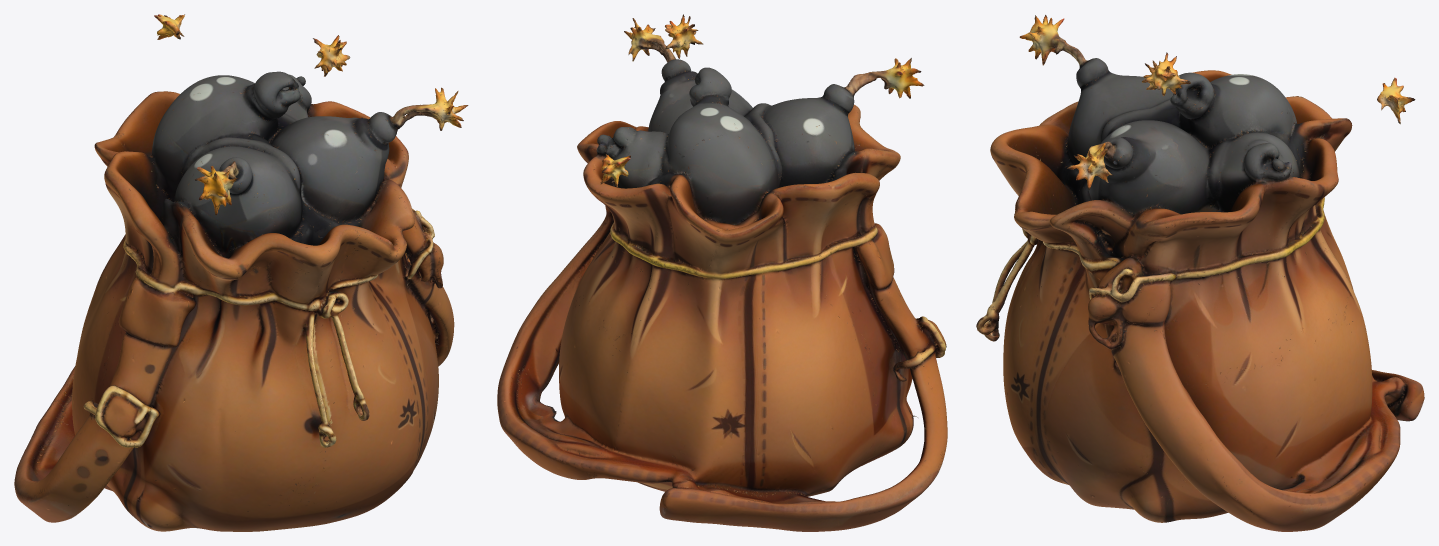
Rendered from Asset_sac.fbx.
3 views of the same model, side by side, from view 1: azimuth 30°, elevation 25°; view 2: azimuth 150°, elevation 25°; view 3: azimuth 270°, elevation 25° (orthographic). The views are drawn at different scales.
Parts seen in each view (by area): view 1: Mesh_0; view 2: Mesh_0; view 3: Mesh_0.
Part boxes in pixels (x1,y1,x2,y2): Mesh_0: (14,14,468,531); Mesh_0: (497,14,947,531); Mesh_0: (976,15,1424,531).
Size of the model in its own units: 200 by 199 by 180.
1 material, 1 textured.
